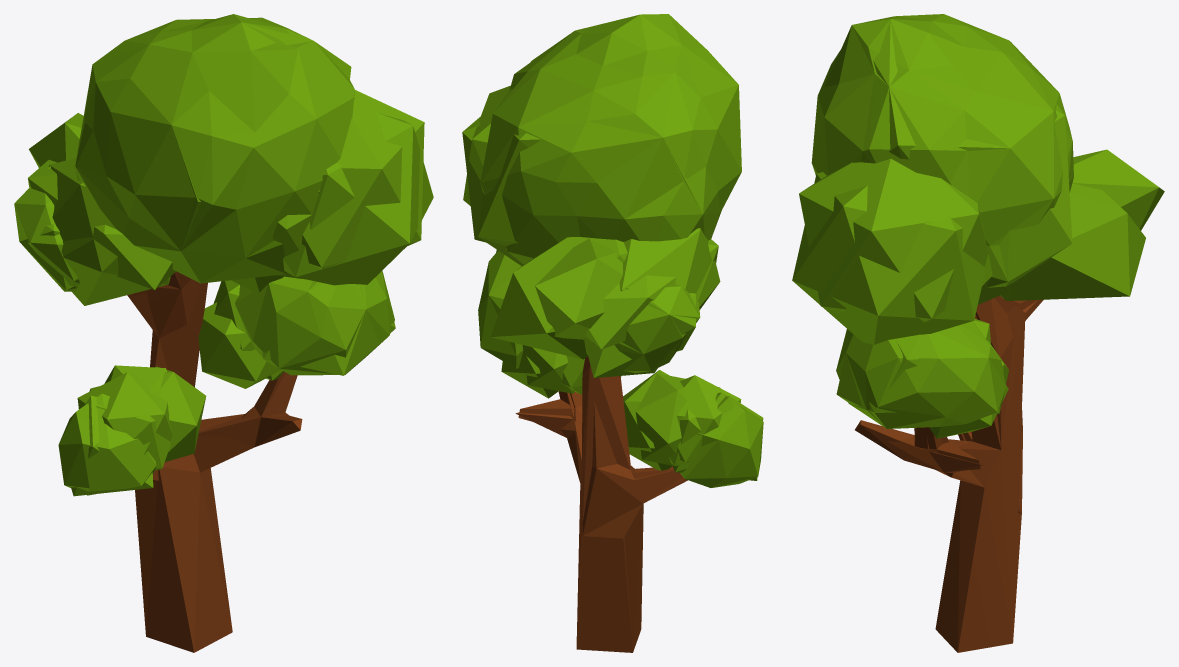
3 renders of one model, left to right at view 1: azimuth 30°, elevation 25°; view 2: azimuth 150°, elevation 25°; view 3: azimuth 270°, elevation 25°, orthographic. The views are drawn at different scales.
Parts seen in each view (by area): view 1: liscie.002, pien; view 2: liscie.002, pien; view 3: liscie.002, pien.
Part boxes in pixels (left/top/right/bottom): liscie.002: left=14, top=14, right=433, bottom=496; pien: left=127, top=271, right=302, bottom=652; liscie.002: left=462, top=14, right=763, bottom=487; pien: left=515, top=356, right=687, bottom=652; liscie.002: left=792, top=14, right=1164, bottom=438; pien: left=855, top=295, right=1043, bottom=652.
Bounding box in the file's own units: 3069 × 5562 × 3022.
